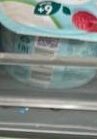1d: (25, 47, 60, 86)
